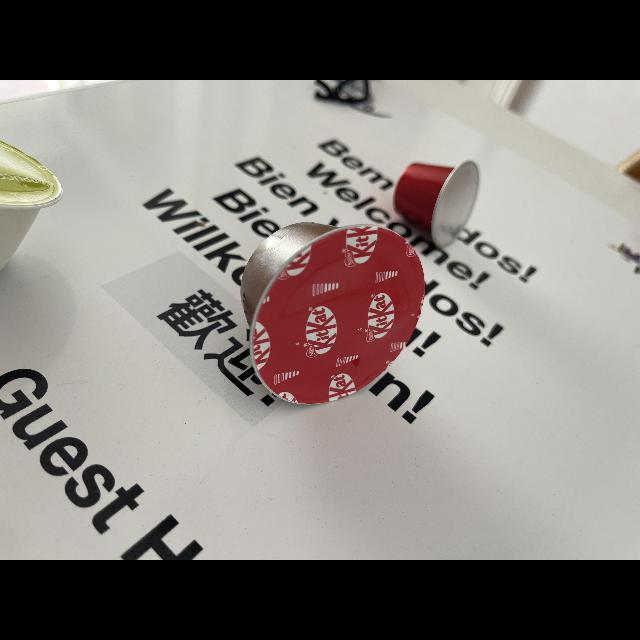intact_capsule: (228, 218, 430, 418), (390, 156, 484, 252)
